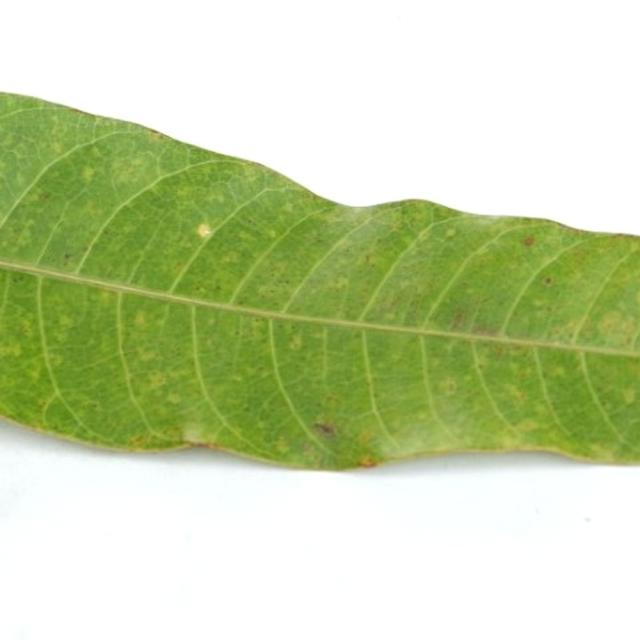Mango: (0, 93, 639, 467)
Powdery_Mildew: (597, 310, 630, 341), (190, 217, 219, 243), (180, 420, 209, 442), (313, 421, 337, 437), (450, 311, 469, 331), (147, 372, 167, 389), (516, 419, 541, 432), (137, 346, 157, 362), (132, 310, 149, 327), (288, 334, 303, 351), (80, 166, 95, 182), (621, 388, 637, 403), (442, 379, 457, 394), (334, 276, 350, 290), (358, 456, 377, 467), (276, 440, 290, 454), (166, 392, 182, 404), (130, 434, 145, 446), (36, 190, 51, 202), (325, 393, 340, 404), (51, 141, 63, 154), (150, 129, 165, 139), (364, 253, 375, 266), (523, 235, 535, 246), (62, 253, 72, 266), (267, 229, 278, 239), (444, 228, 456, 237), (38, 399, 47, 407), (544, 276, 552, 284)
